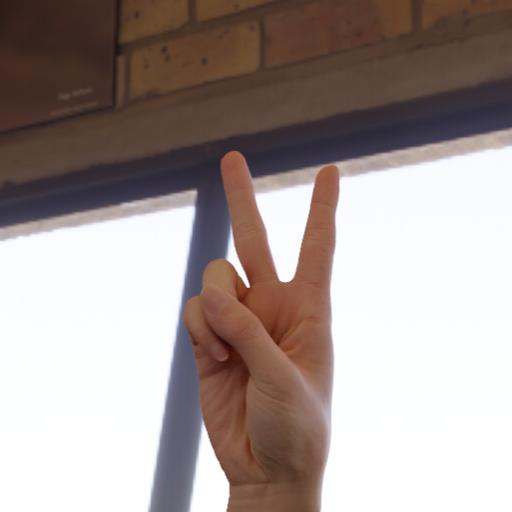V: (166, 132, 376, 512)
